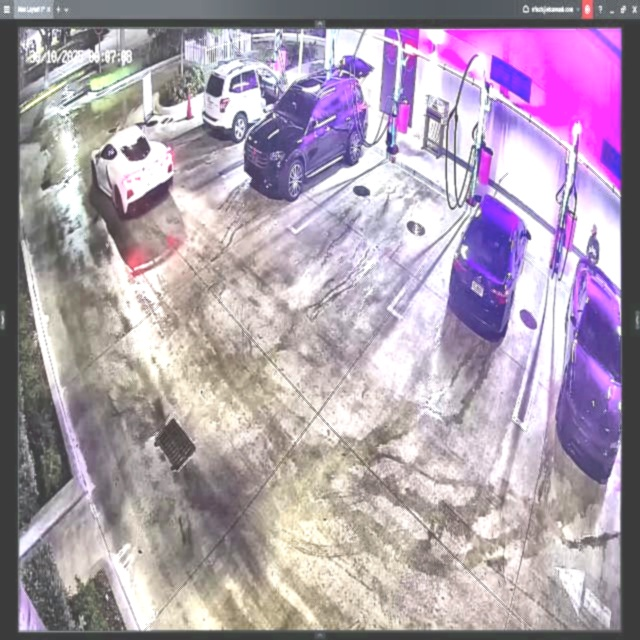Car: (245, 70, 367, 198), (451, 195, 529, 334), (91, 123, 173, 216)
